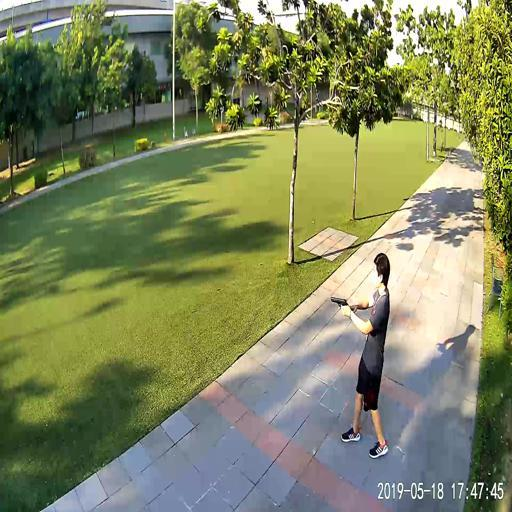Handgun: (327, 294, 352, 318)
